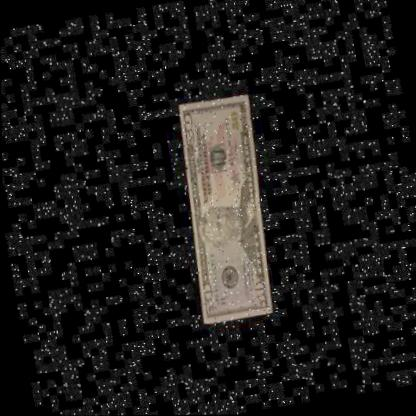fifty-front: (166, 90, 285, 326)
